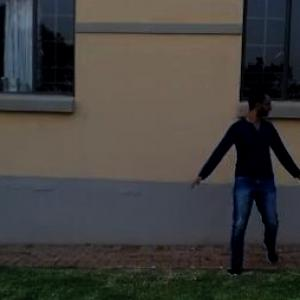land: (192, 87, 299, 279)
